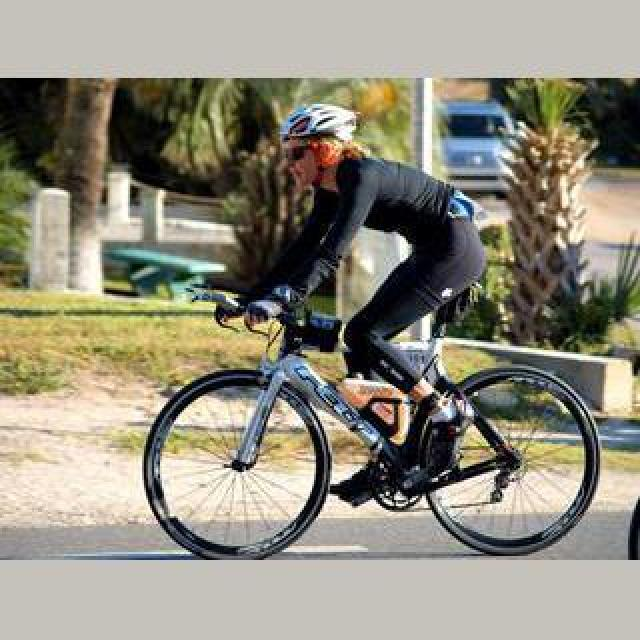MC-Bike: (240, 90, 500, 546)
Person: (148, 256, 608, 560)
